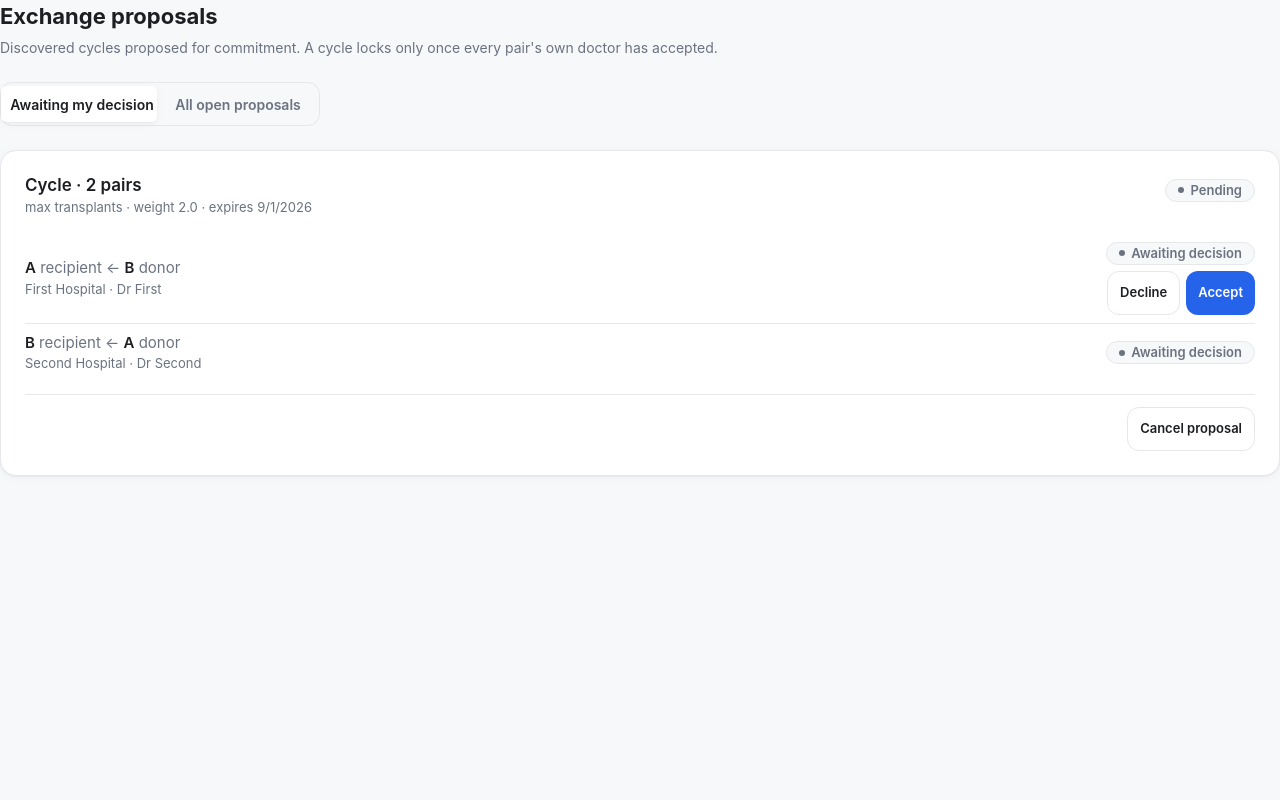
Test: ExchangeProposalsInboxPage › shows an error message instead of failing silently when the decision fails
Expected: the link "Cycle · 2 pairs" is shown, [25,175,142,195]
What coordinates should you click on to do the following:
click the button "Accept"
I would click on:
 (1221, 293)
Its box is [1186,271,1255,315].
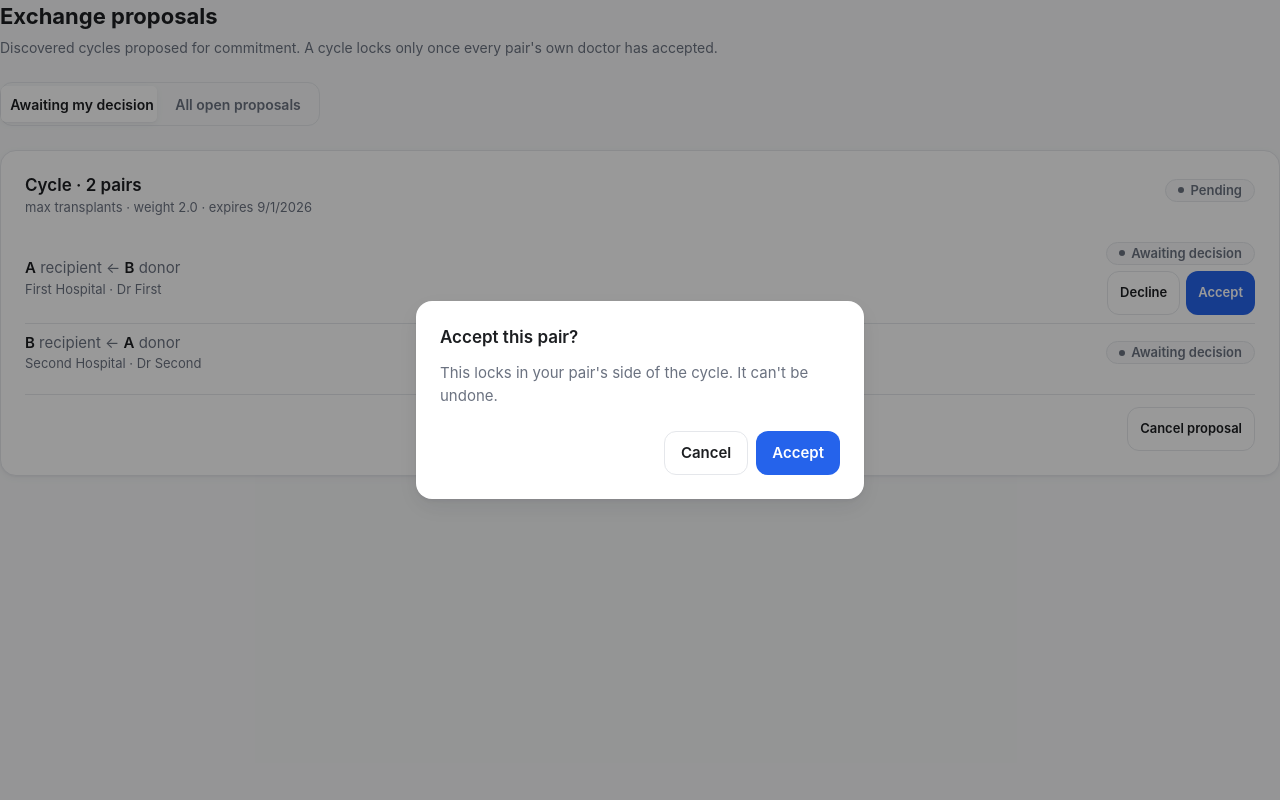
What coordinates should you click on to do the following:
click the button "Accept"
I would click on:
 (798, 453)
Its box is [756,431,840,475].
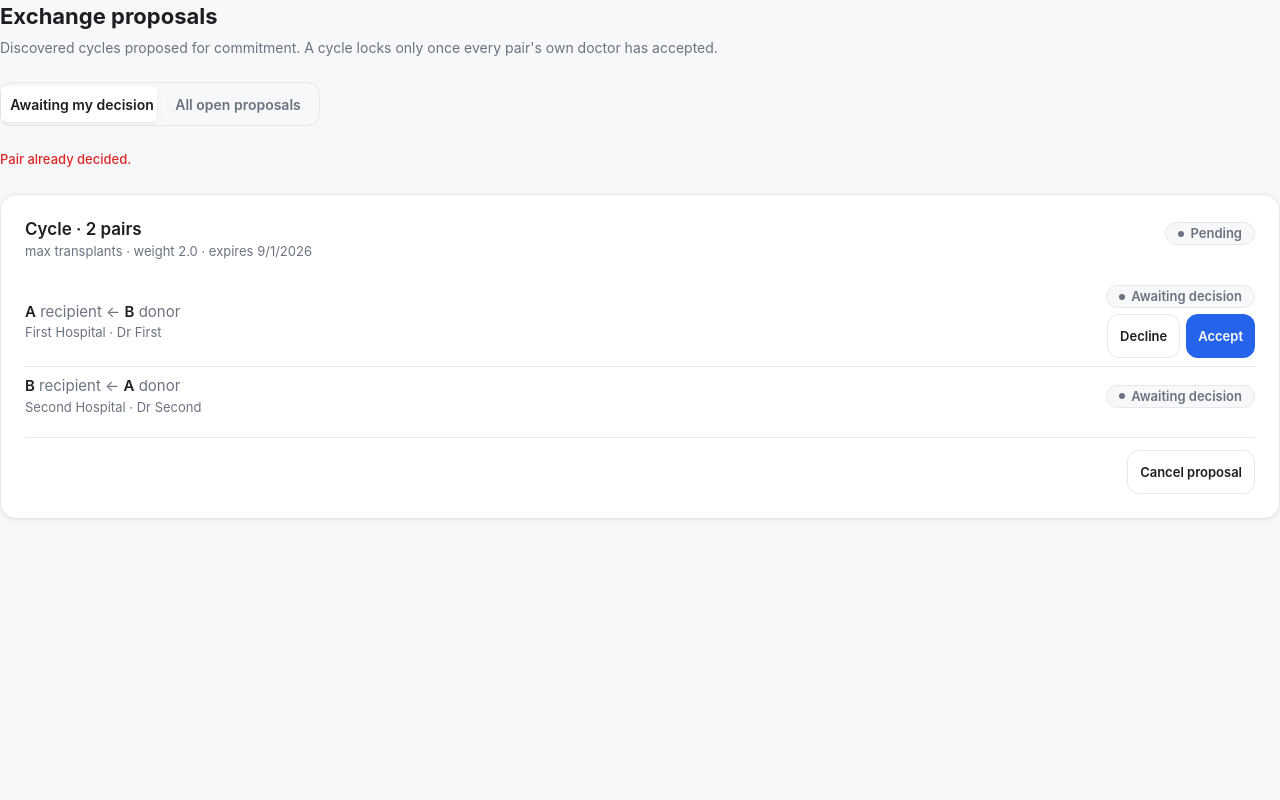
Result: the text "Pair already decided." is shown at [0,151,131,167]
